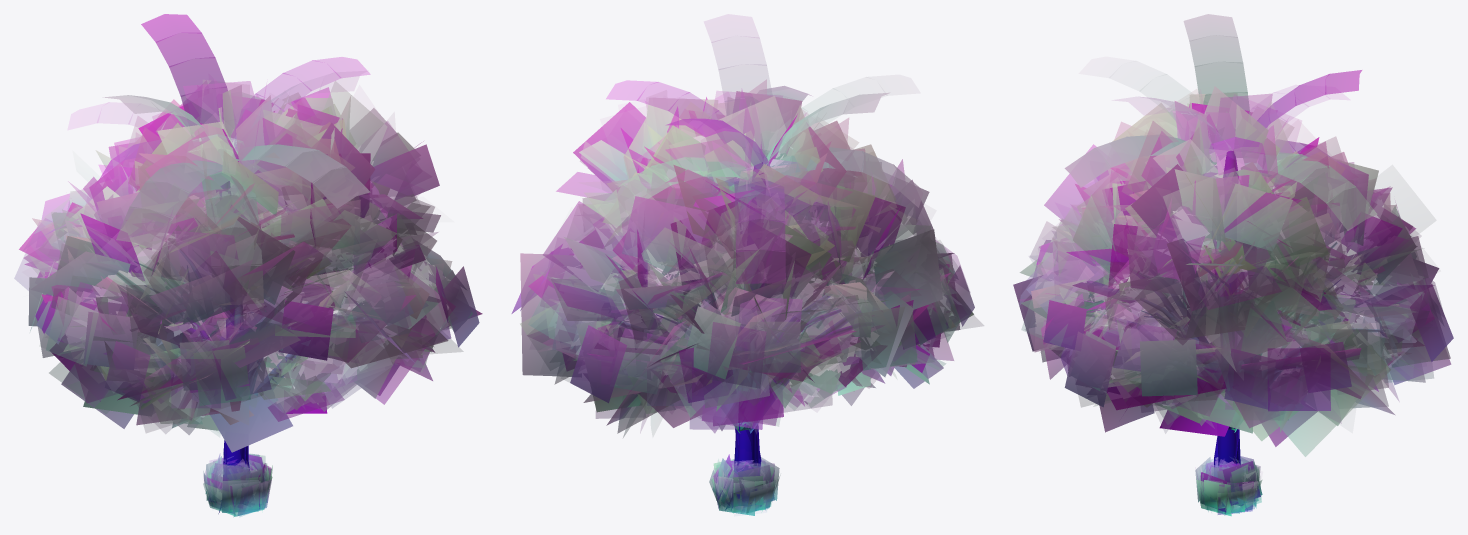
Rendered from SunsetTrees.glb.
The picture shows the model from 3 angles, left to right: view 1: azimuth 30°, elevation 25°; view 2: azimuth 150°, elevation 25°; view 3: azimuth 270°, elevation 25°; orthographic projection. The views are drawn at different scales.
Visible parts, largest first — view 1: Canopy_LOD0, Flame_LOD0, Palm_LOD0, Laurel_LOD0, Blossom_LOD0, Shrub_LOD0; view 2: Canopy_LOD0, Flame_LOD0, Palm_LOD0, Laurel_LOD0, Blossom_LOD0, Shrub_LOD0; view 3: Canopy_LOD0, Flame_LOD0, Palm_LOD0, Laurel_LOD0, Blossom_LOD0, Shrub_LOD0.
Boxes of the visible parts, left/top/right/bottom form: Canopy_LOD0: left=28, top=79, right=440, bottom=464; Flame_LOD0: left=14, top=180, right=482, bottom=479; Palm_LOD0: left=68, top=14, right=387, bottom=504; Laurel_LOD0: left=53, top=162, right=385, bottom=513; Blossom_LOD0: left=203, top=452, right=272, bottom=515; Shrub_LOD0: left=204, top=458, right=272, bottom=516; Canopy_LOD0: left=540, top=79, right=962, bottom=495; Flame_LOD0: left=511, top=233, right=983, bottom=509; Palm_LOD0: left=597, top=14, right=923, bottom=507; Laurel_LOD0: left=603, top=190, right=875, bottom=474; Blossom_LOD0: left=709, top=454, right=780, bottom=513; Shrub_LOD0: left=712, top=459, right=776, bottom=515; Canopy_LOD0: left=1013, top=86, right=1439, bottom=457; Flame_LOD0: left=1019, top=193, right=1453, bottom=491; Palm_LOD0: left=1064, top=14, right=1377, bottom=505; Laurel_LOD0: left=1087, top=173, right=1387, bottom=462; Blossom_LOD0: left=1195, top=456, right=1262, bottom=516; Shrub_LOD0: left=1199, top=459, right=1262, bottom=515.
Size of what is drawn, in the model's own units: 10.49 by 11.68 by 10.49.
